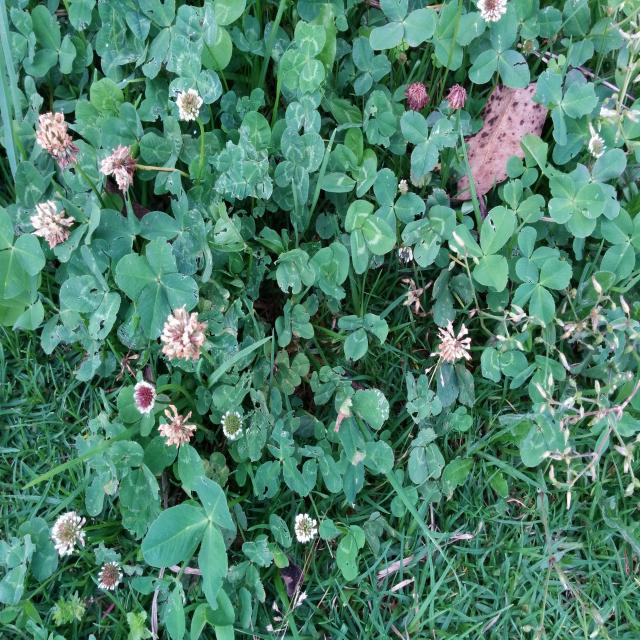Four Leaf Clover: (114, 236, 199, 339)
